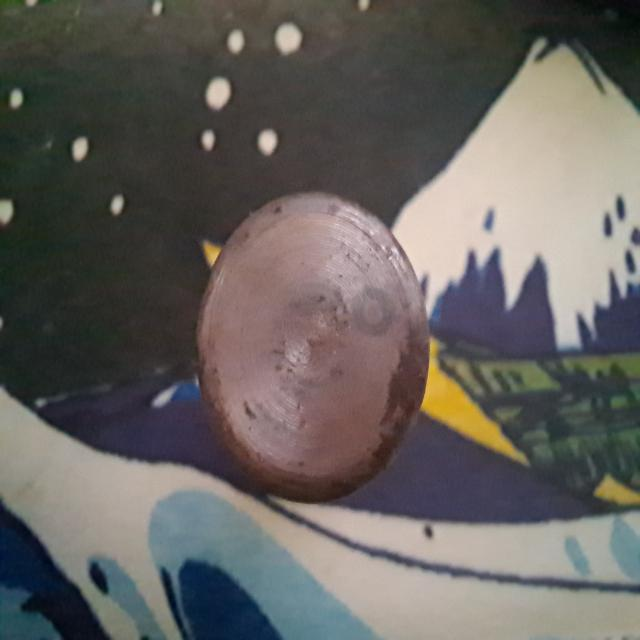defect: (347, 282, 397, 336)
planson: (196, 193, 432, 502)
